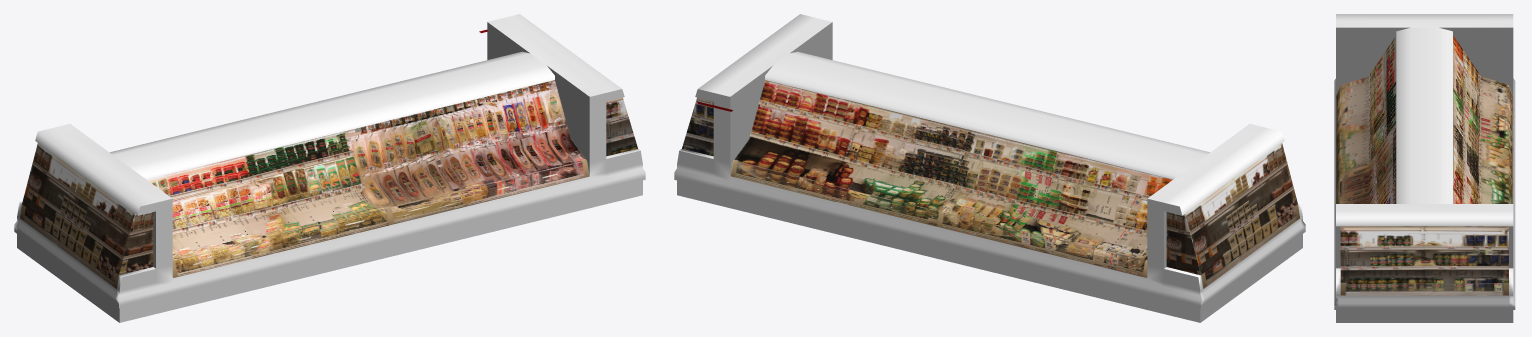
File: Fixture_Floor_Cooler_Meat01.fbx
3 renders of one model, left to right at view 1: azimuth 30°, elevation 25°; view 2: azimuth 150°, elevation 25°; view 3: azimuth 270°, elevation 25°, orthographic. The views are drawn at different scales.
Parts seen in each view (by area): view 1: Fixture_Floor_Cooler_Meat01; view 2: Fixture_Floor_Cooler_Meat01; view 3: Fixture_Floor_Cooler_Meat01.
Part boxes in pixels (bbox=[...]): Fixture_Floor_Cooler_Meat01: bbox=[14, 14, 645, 322]; Fixture_Floor_Cooler_Meat01: bbox=[674, 14, 1305, 322]; Fixture_Floor_Cooler_Meat01: bbox=[1334, 14, 1515, 322].
Size of the model in its own units: 616 by 124 by 215.
4 materials, 1 textured.
